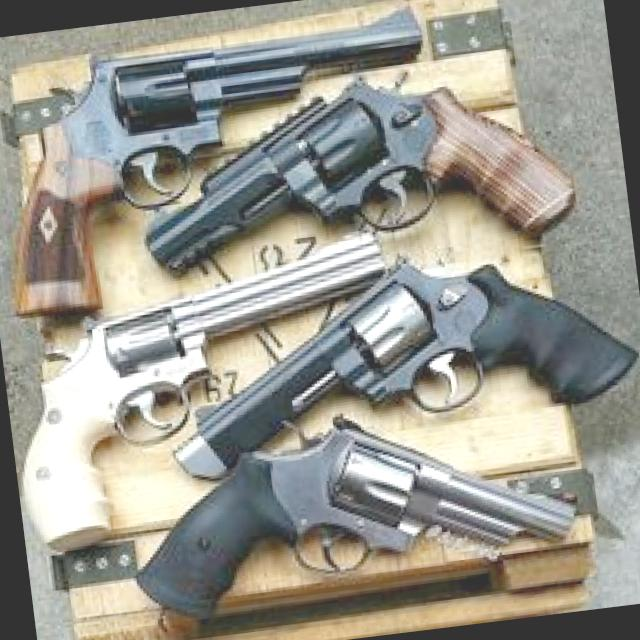revolver: (0, 0, 622, 332)
